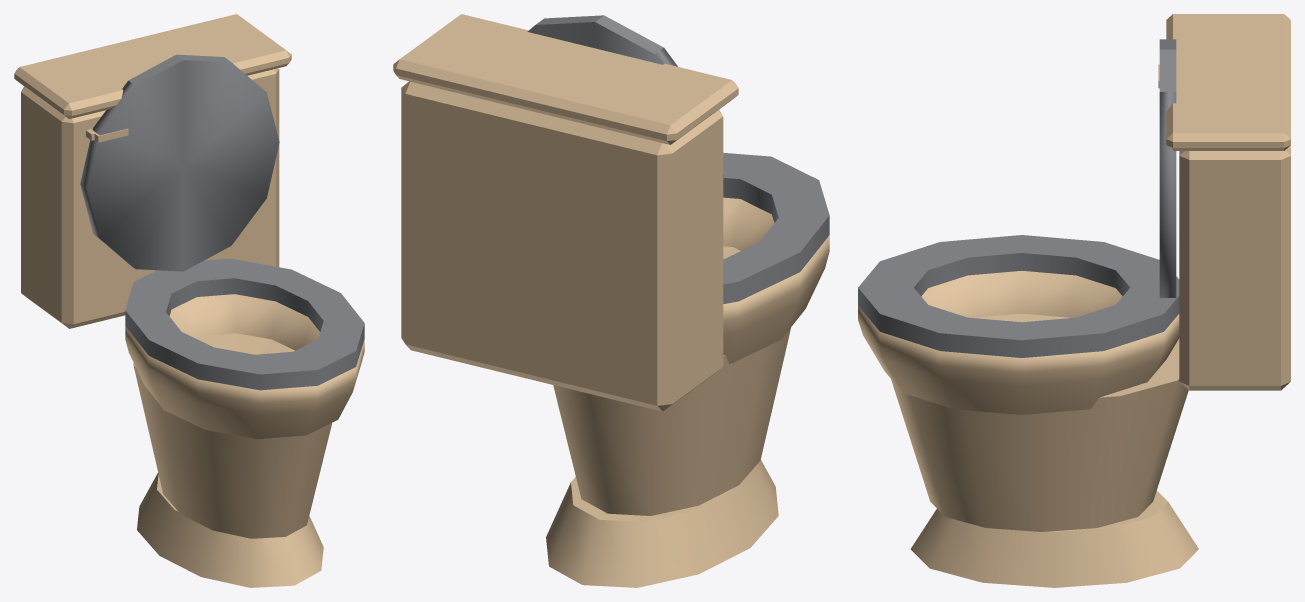
Rendered from toilet.glb.
3 renders of one model, left to right at view 1: azimuth 30°, elevation 25°; view 2: azimuth 150°, elevation 25°; view 3: azimuth 270°, elevation 25°, orthographic. The views are drawn at different scales.
Parts seen in each view (by area): view 1: toilet; view 2: toilet; view 3: toilet.
Part boxes in pixels (left/top/right/bottom): toilet: left=14, top=14, right=364, bottom=587; toilet: left=393, top=14, right=829, bottom=587; toilet: left=858, top=14, right=1290, bottom=587.
Bounding box in the file's own units: 0.45 × 0.84 × 0.66.
